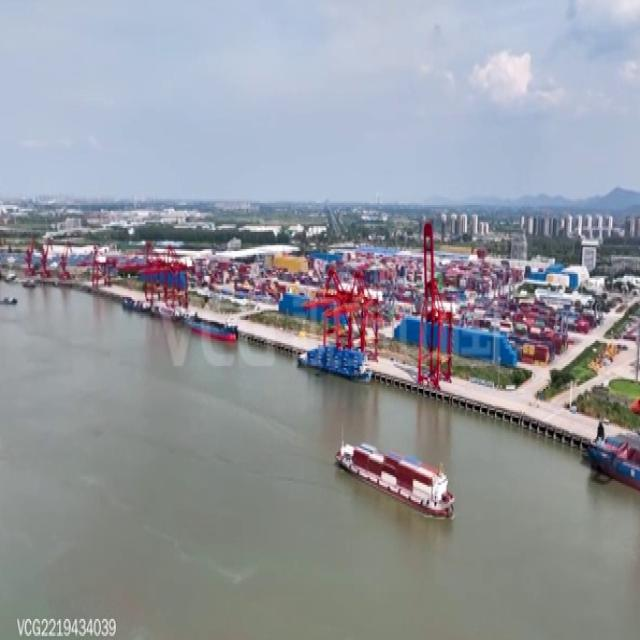cargoship: (334, 435, 454, 518), (300, 332, 372, 389), (588, 425, 640, 502), (186, 307, 240, 344), (0, 287, 18, 310)
